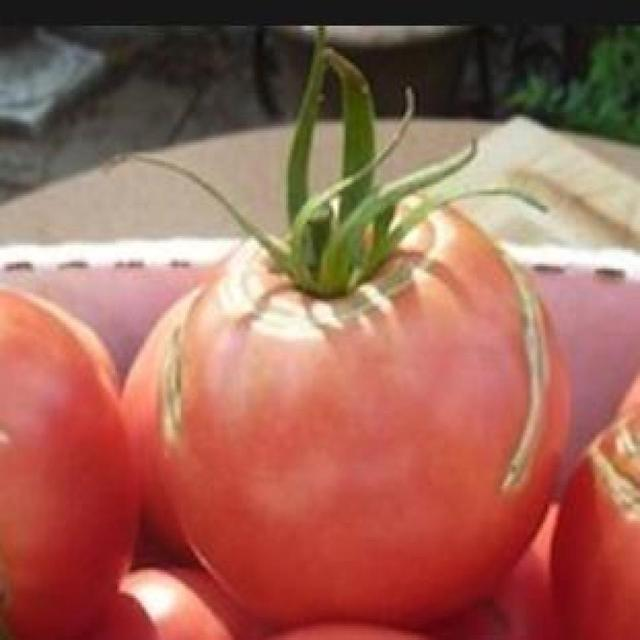Cracking Fruit: (42, 84, 404, 318)
